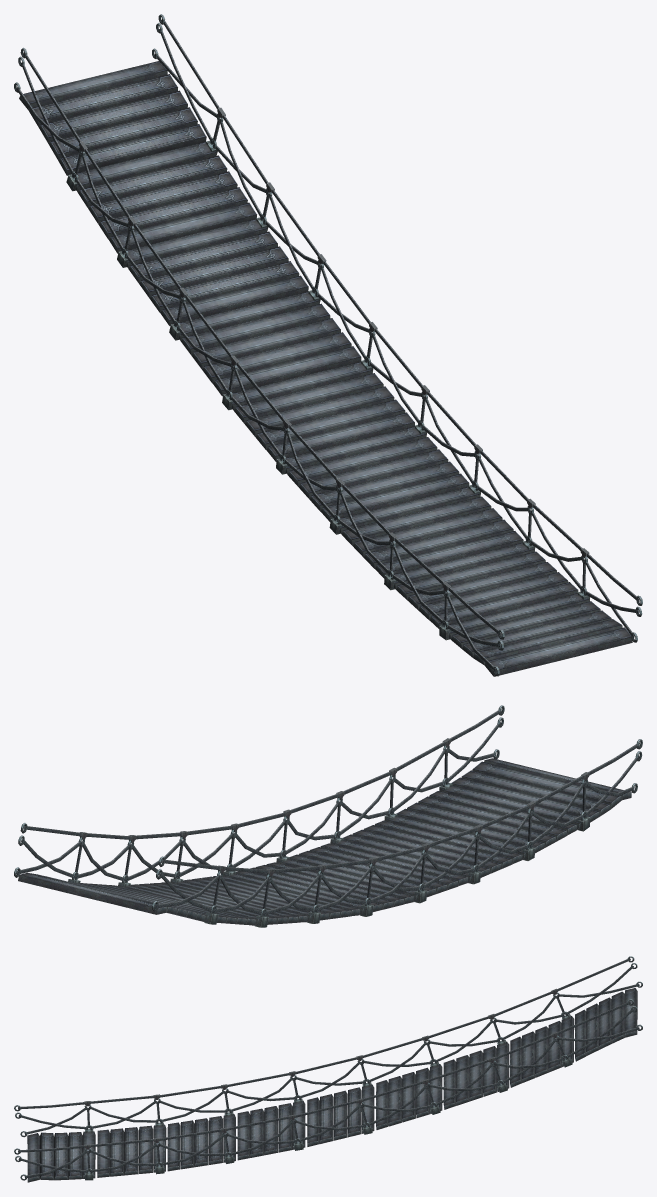
The model's file is steel_bridge_body_up.fbx.
The picture shows the model from 3 angles, top to bottom: view 1: azimuth 30°, elevation 25°; view 2: azimuth 150°, elevation 25°; view 3: azimuth 270°, elevation 25°; orthographic projection. The views are drawn at different scales.
Visible parts, largest first — view 1: steel_bridge_body_up; view 2: steel_bridge_body_up; view 3: steel_bridge_body_up.
Part boxes in pixels (box(x1,y1,x2,y2)): steel_bridge_body_up: box(14, 14, 642, 676); steel_bridge_body_up: box(14, 705, 642, 927); steel_bridge_body_up: box(14, 956, 642, 1182).
Size of the model in its own units: 11.42 by 21.54 by 67.14.
